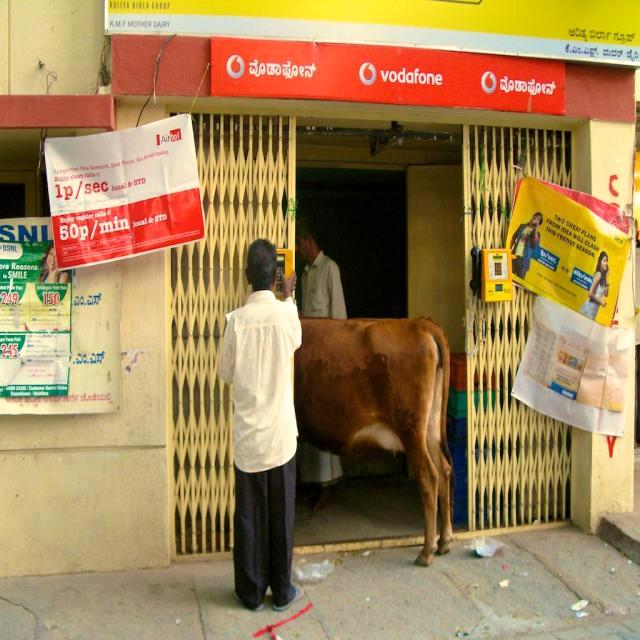COW: (295, 317, 454, 565)
